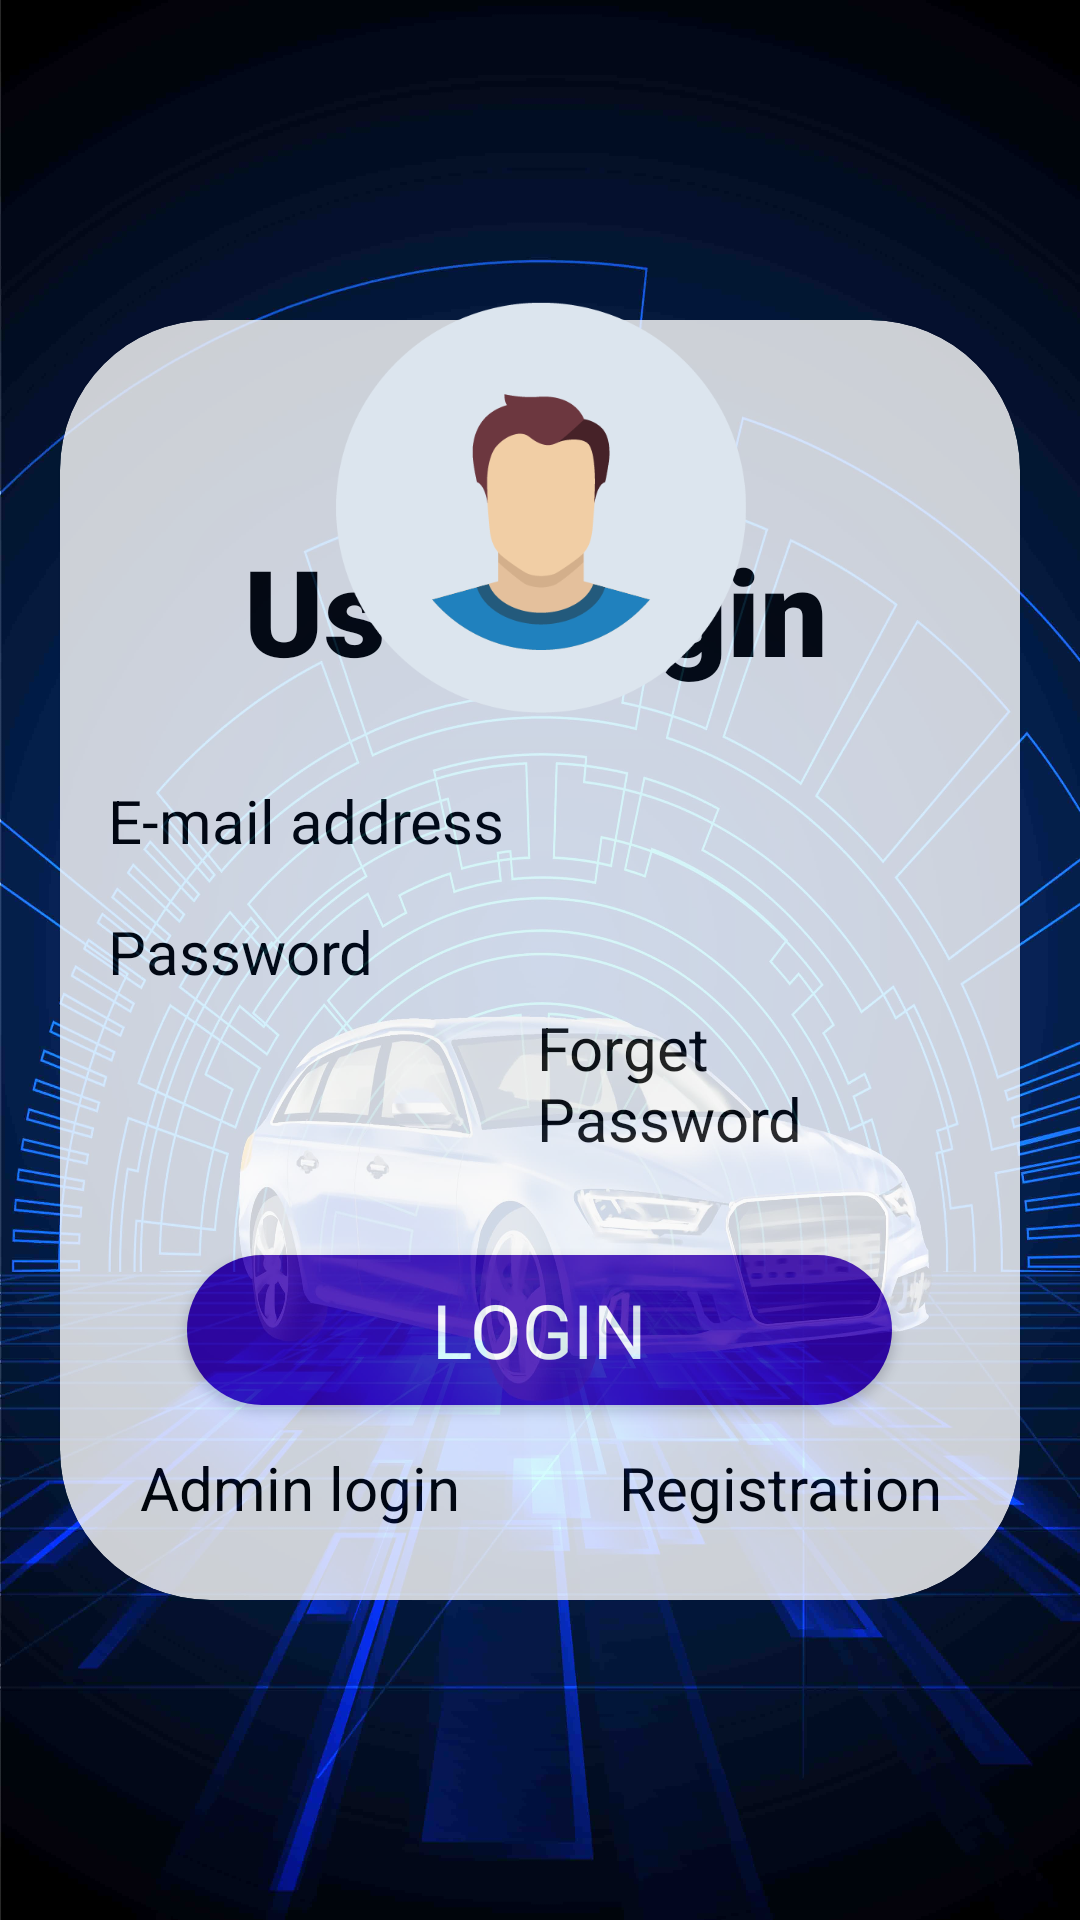

Screen size 1080 × 1920. Icon name, then its box in pixels as (x1, y1, x2, y2):
userr: (432, 394, 650, 650)
